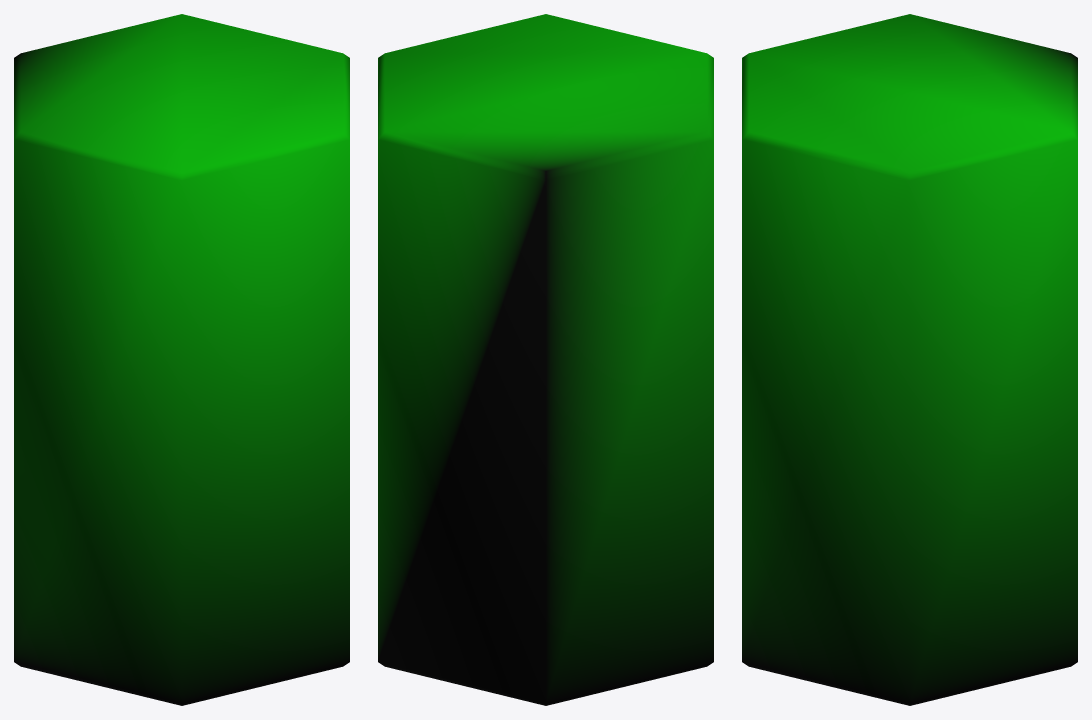
The model's file is SM_RockHexic_Piece02.fbx.
The picture shows the model from 3 angles, left to right: view 1: azimuth 30°, elevation 25°; view 2: azimuth 150°, elevation 25°; view 3: azimuth 270°, elevation 25°; orthographic projection.
Parts seen in each view (by area): view 1: SM_RockHexic_Piece02; view 2: SM_RockHexic_Piece02; view 3: SM_RockHexic_Piece02.
Part boxes in pixels (box(x1,y1,x2,y2)): SM_RockHexic_Piece02: box(14, 14, 349, 705); SM_RockHexic_Piece02: box(378, 14, 713, 705); SM_RockHexic_Piece02: box(742, 14, 1077, 705).
Size of the model in its own units: 360 by 312 by 549.
